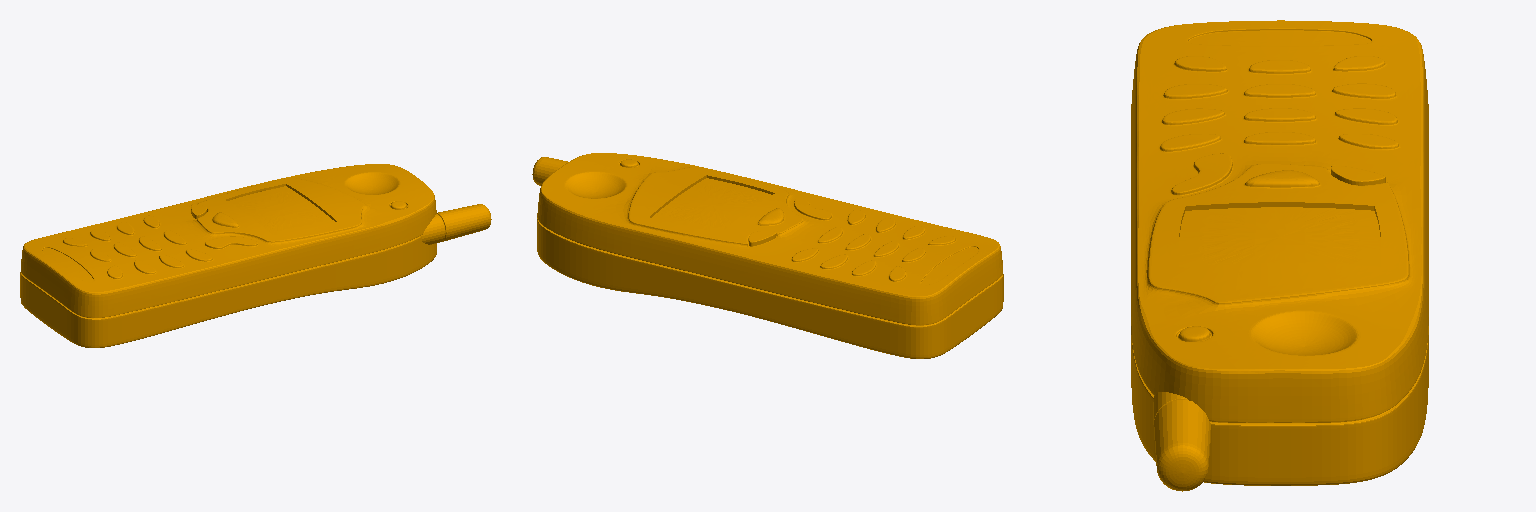
The robot description file, URDF, robot "object":
<?xml version="1.0"?>
<robot name="object">
  <link name="object">
    <visual>
      <origin xyz="0.0 0.0 0.0"/>
      <geometry>
        <mesh filename="cell_phone.stl" scale="1.00 1.00 1.00"/>
      </geometry>
    </visual>
    <collision>
      <origin xyz="0.0 0.0 0.0"/>
      <geometry>
        <mesh filename="cell_phone.stl" scale="1.00 1.00 1.00"/>
      </geometry>
    </collision>
  </link>
</robot>
    
                    

--- Facts derived from the render (not from the file) ---
Views: 3 orthographic renders of the robot side by side, from view 1: azimuth 30°, elevation 25°; view 2: azimuth 150°, elevation 25°; view 3: azimuth 270°, elevation 25°.
Robot: object — 1 links, 0 joints (none); root link object; default pose: all joints at 0.
Links seen in each view (by area): view 1: object; view 2: object; view 3: object.
Link boxes in pixels (<box>): object: <box>20,164,491,347</box>; object: <box>532,153,1003,358</box>; object: <box>1131,20,1428,491</box>.
Bounding box of the posed robot: 0.1482 × 0.0472 × 0.0244 m (x, y, z).
Meshes: 1 distinct files referenced, 1 mesh visuals loaded (1 binary STL).
